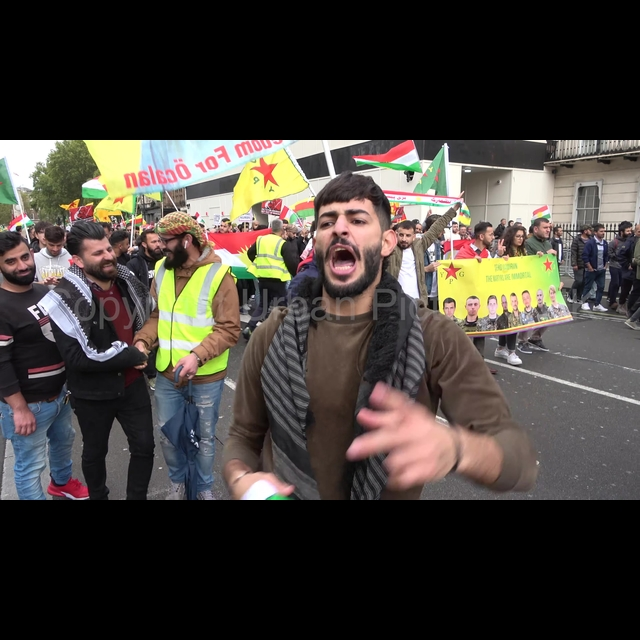YPG: (243, 155, 287, 194)
YPJ: (541, 254, 560, 278)
